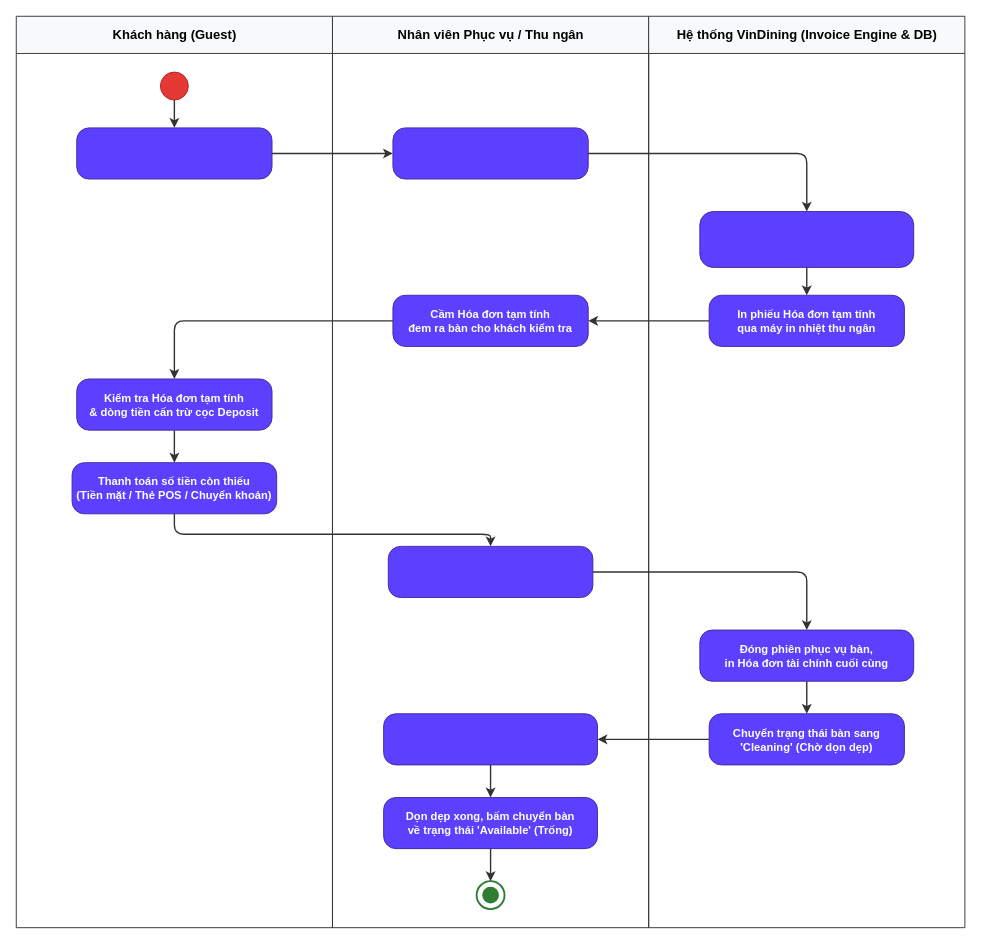
Image size: 981x944. Some labels were removed from this diagram. The centre of each missing label's shape, as x and y in pixels:
Chọn 'Thanh toán hóa đơn' cho bàn trên Tablet: point (490, 153)
Giao Hóa đơn tài chính cho khách & tiến hành dọn dẹp bàn: point (490, 739)
Nhấn 'Yêu cầu thanh toán' trên Web hoặc báo Phục vụ: point (174, 153)
Xác nhận đủ tiền & bấm 'Hoàn tất thanh toán' trên Tablet: point (490, 571)
Áp công thức tài chính BR-03: max(0, Subtotal + 5% SVC + 10% VAT - Deposit Paid): point (806, 239)
